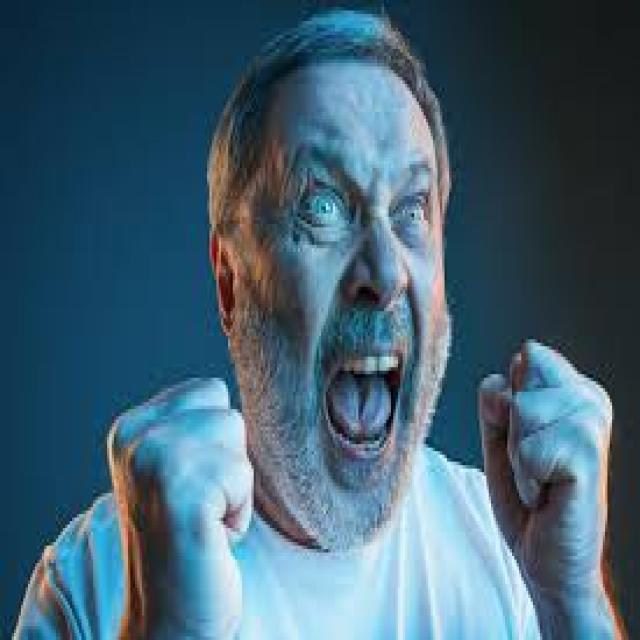Angry: (216, 60, 464, 532)
